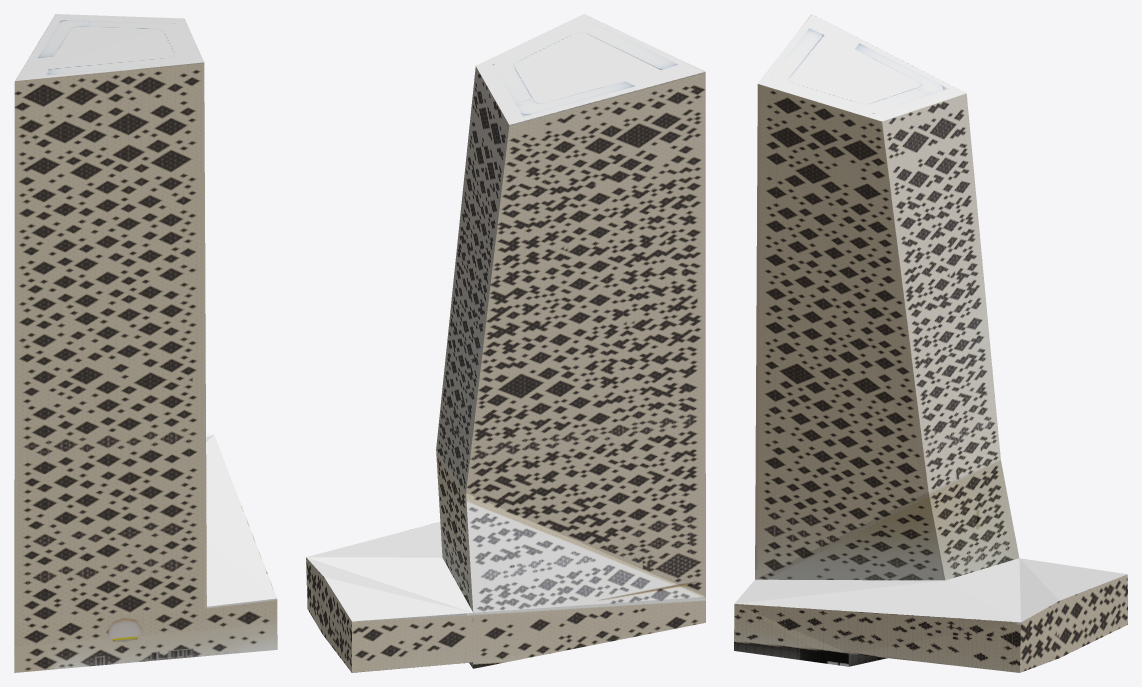
3 renders of one model, left to right at view 1: azimuth 30°, elevation 25°; view 2: azimuth 150°, elevation 25°; view 3: azimuth 270°, elevation 25°, orthographic. The views are drawn at different scales.
Parts seen in each view (by area): view 1: 110A.001; view 2: 110A.001; view 3: 110A.001.
Part boxes in pixels (x1,y1,x2,y2): 110A.001: [14, 14, 277, 672]; 110A.001: [306, 14, 705, 672]; 110A.001: [734, 14, 1127, 672].
Size of the model in its own units: 76.44 by 138 by 90.89.
1 material, 1 textured.
